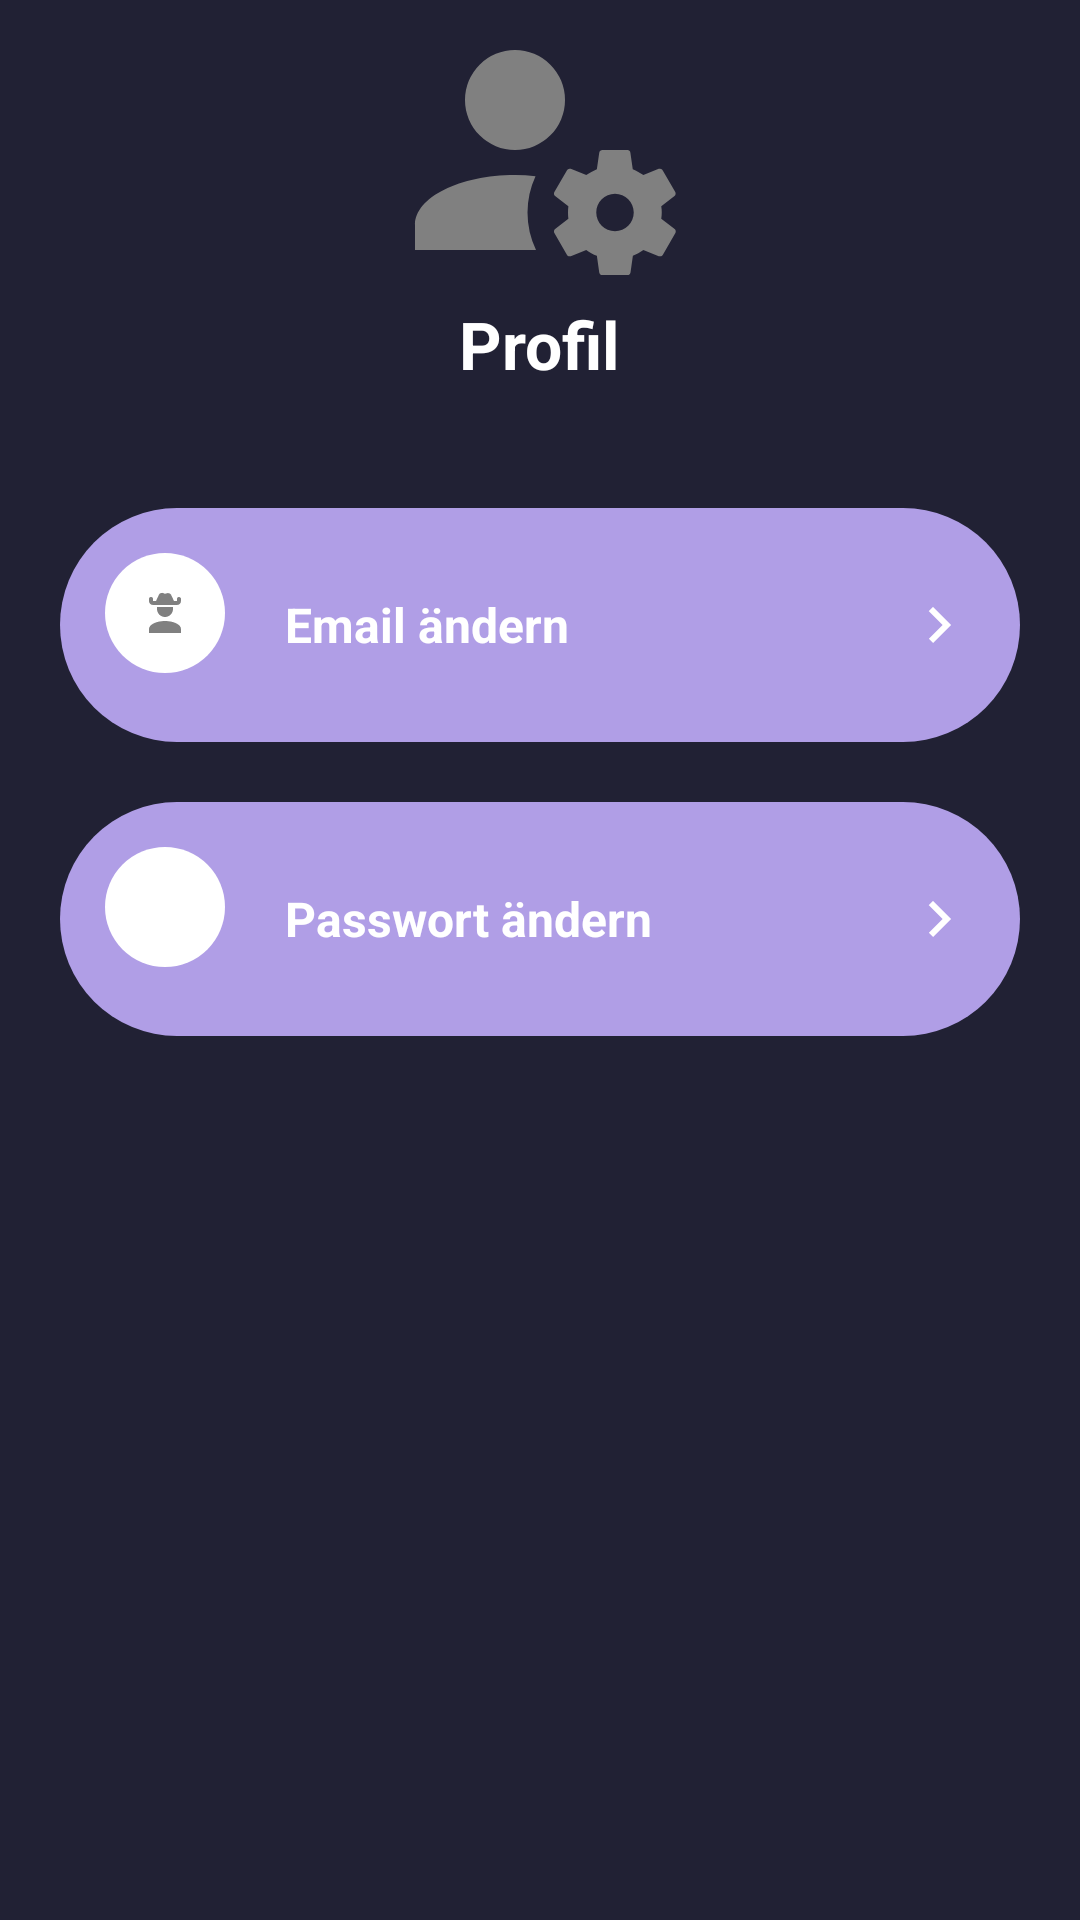

Point at icon controls on the screen. Image size 1080w x 1920h, points as point (x, y).
account cog: point (545, 162)
account cowboy hat: point (165, 613)
settings right arrow: point (940, 625), point (940, 919)
